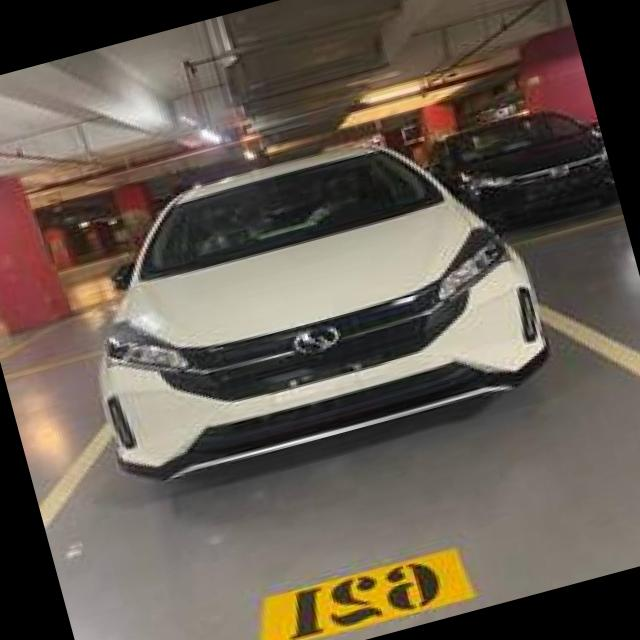PeroduaMyvi: (48, 100, 564, 498)
